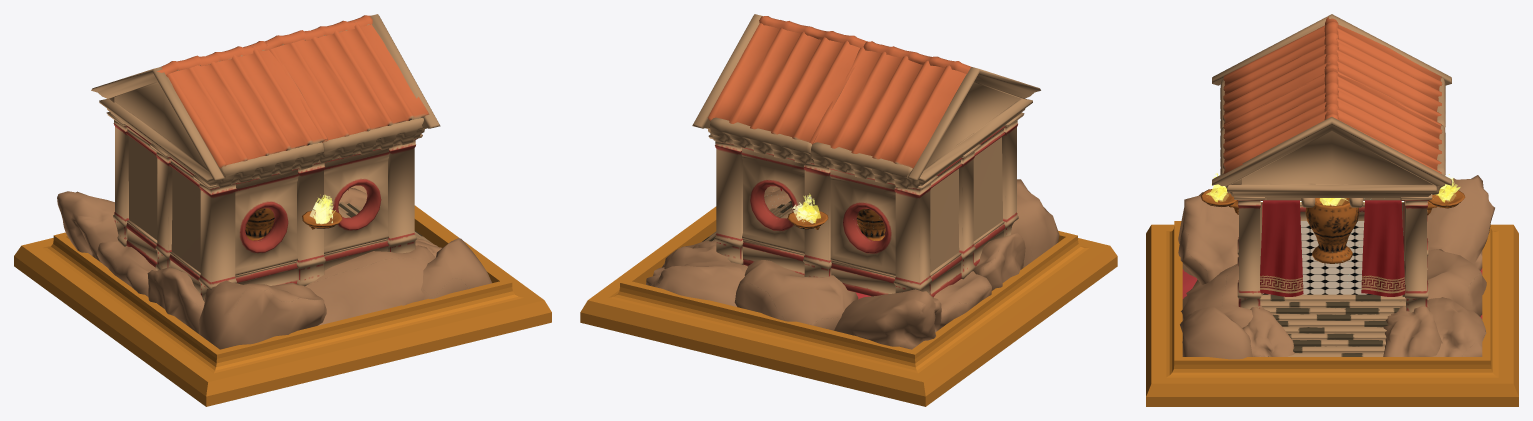
3 renders of one model, left to right at view 1: azimuth 30°, elevation 25°; view 2: azimuth 150°, elevation 25°; view 3: azimuth 270°, elevation 25°, orthographic. The views are drawn at different scales.
Visible parts, largest first — view 1: Object001_main new_0, Object002_pedestal new_0, flame007; view 2: Object001_main new_0, Object002_pedestal new_0, flame006; view 3: Object001_main new_0, Object002_pedestal new_0, curtain, curtain001, Object003_floor new_0.
Boxes of the visible parts, x1,y1,x2,y2 form: Object001_main new_0: (57,14,491,349); Object002_pedestal new_0: (14,205,551,406); flame007: (310,195,335,224); Object001_main new_0: (646,14,1059,349); Object002_pedestal new_0: (580,206,1117,406); flame006: (792,193,820,223); Object001_main new_0: (1178,14,1494,359); Object002_pedestal new_0: (1146,221,1518,406); curtain: (1361,200,1405,296); curtain001: (1260,200,1303,296); Object003_floor new_0: (1263,221,1372,294).
Size of the model in its own units: 2058 by 1482 by 1982.
9 materials, 5 textured.
